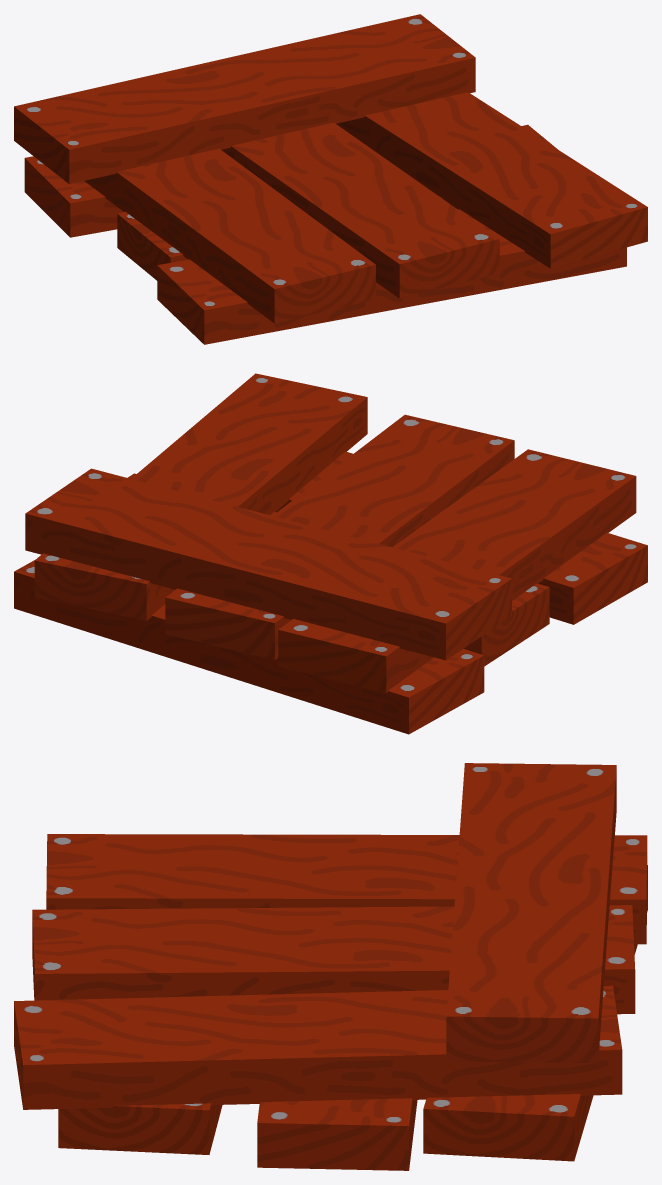
The model's file is woodWorkshopMaterial2.fbx.
3 views of the same model, one above another, from view 1: azimuth 30°, elevation 25°; view 2: azimuth 150°, elevation 25°; view 3: azimuth 270°, elevation 25° (orthographic). The views are drawn at different scales.
Parts seen in each view (by area): view 1: WoodDesk; view 2: WoodDesk; view 3: WoodDesk.
Boxes of the visible parts, x1,y1,x2,y2 form: WoodDesk: (14,14,647,344); WoodDesk: (14,373,647,734); WoodDesk: (14,763,647,1170).
Bounding box in the file's own units: 72.52 × 15.88 × 70.
1 material, 1 textured.
